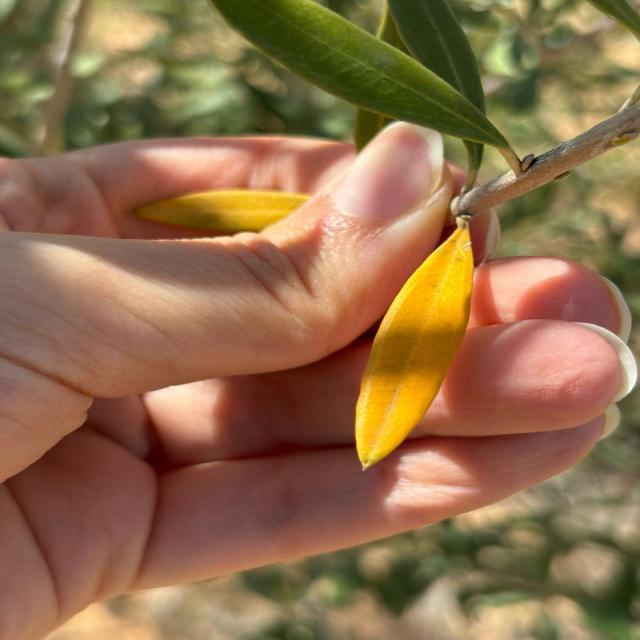Peacock Eye: (355, 218, 474, 469), (134, 189, 309, 236)
